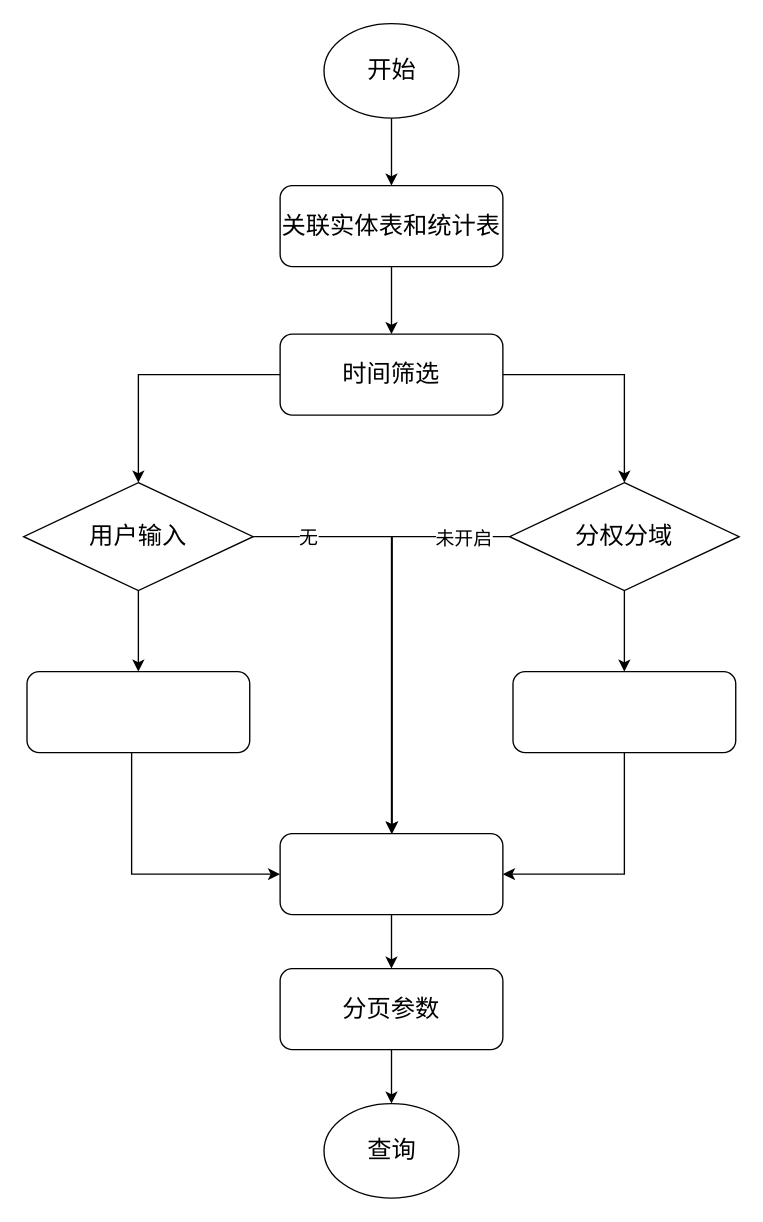
Image size: 763x1222. Some labels were removed from this diagram. The centre of each missing label's shape, as x and y in pixels:
"排序字段" belongs at point (391, 873).
"数据域条件" belongs at point (624, 711).
"用户输入条件" belongs at point (138, 711).
